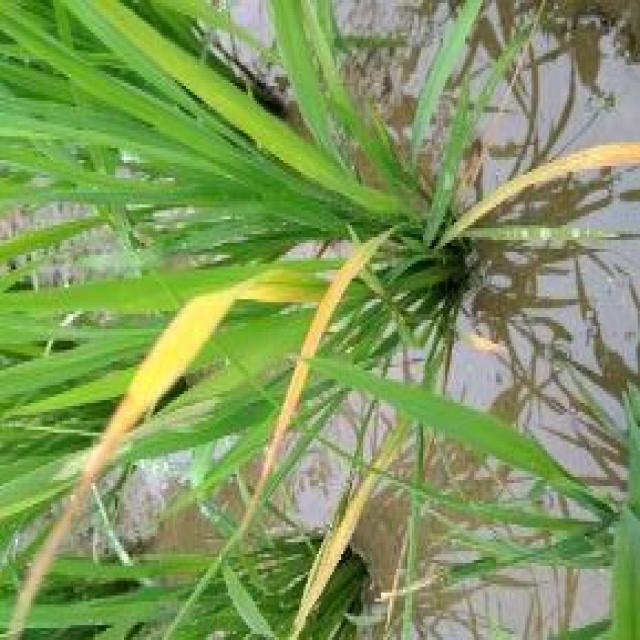Tungro: (54, 258, 246, 499), (258, 260, 383, 475), (455, 122, 640, 243), (308, 434, 391, 638)
